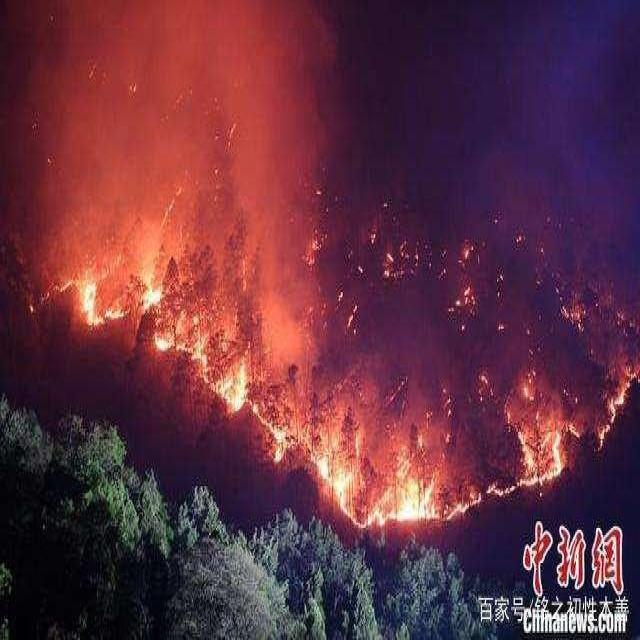fire: (46, 265, 256, 419), (264, 414, 362, 530), (369, 461, 559, 518)
